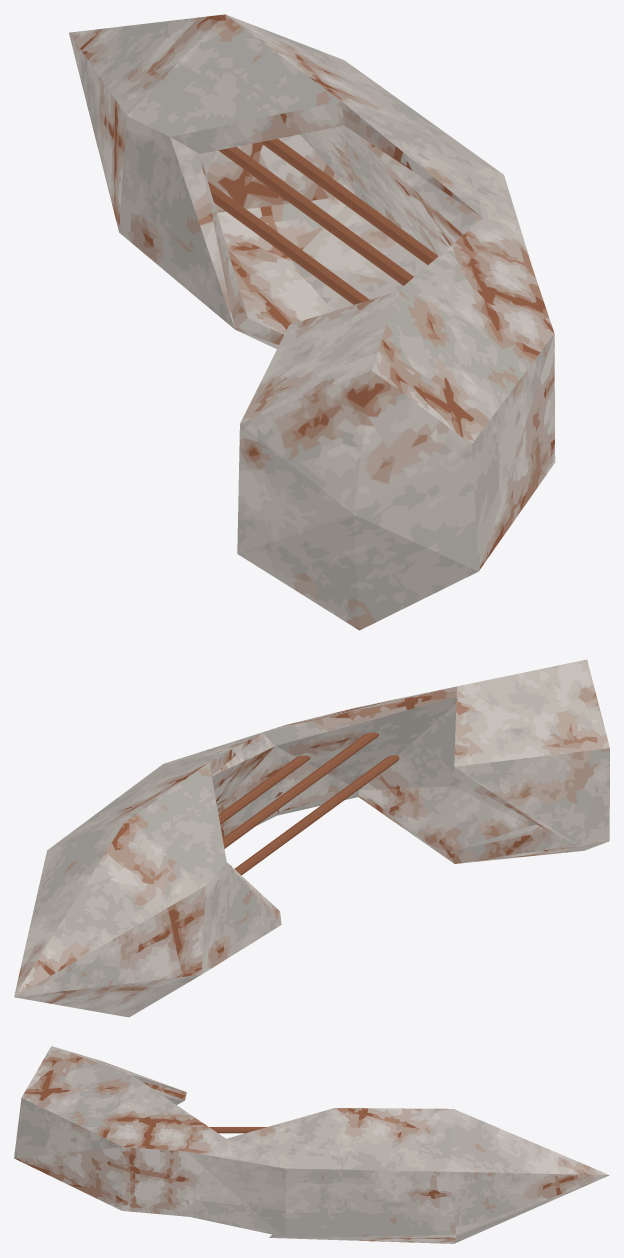
The model's file is escombro3.glb.
3 renders of one model, top to bottom at view 1: azimuth 30°, elevation 25°; view 2: azimuth 150°, elevation 25°; view 3: azimuth 270°, elevation 25°, orthographic. The views are drawn at different scales.
Visible parts, largest first — view 1: Cylinder.004; view 2: Cylinder.004; view 3: Cylinder.004.
Part boxes in pixels (left/top/right/bottom): Cylinder.004: left=69, top=14, right=555, bottom=630; Cylinder.004: left=14, top=659, right=609, bottom=1017; Cylinder.004: left=14, top=1046, right=609, bottom=1243.
Bounding box in the file's own units: 5.6 × 3.24 × 12.76.
1 material, 1 textured.
